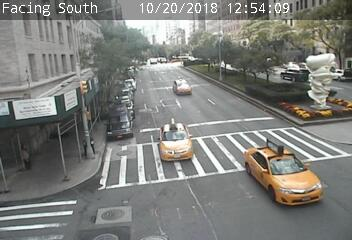car: (249, 148, 315, 196), (158, 126, 190, 160), (173, 80, 192, 97)
